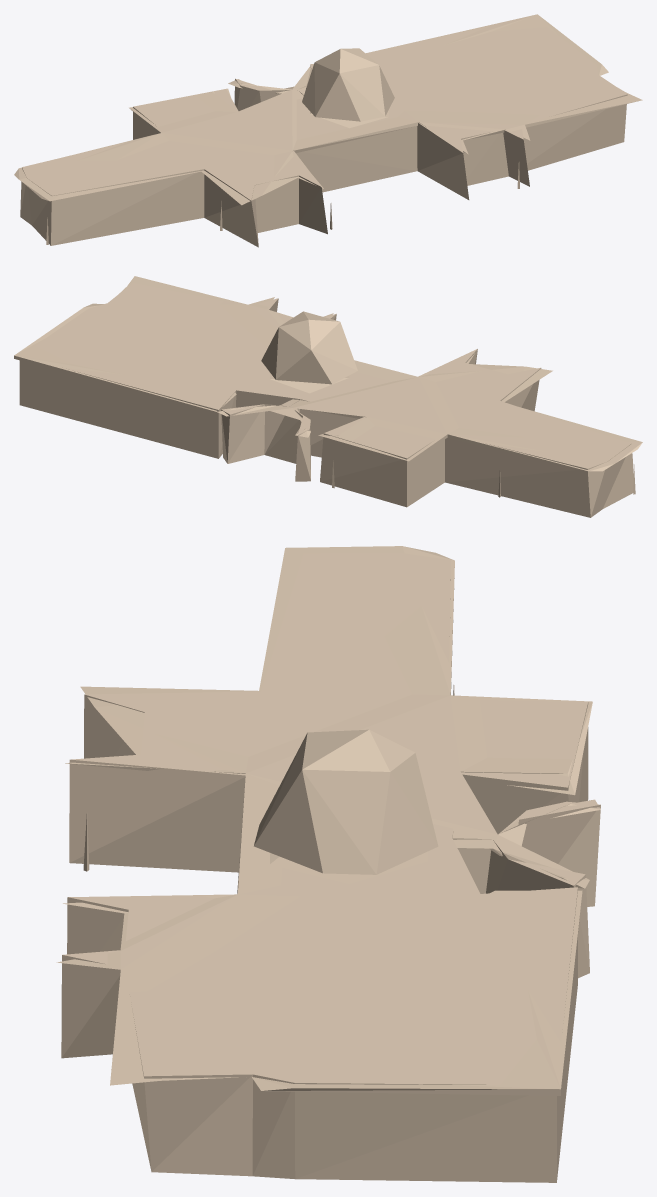
File: north-block_lod2.glb
The picture shows the model from 3 angles, top to bottom: view 1: azimuth 30°, elevation 25°; view 2: azimuth 150°, elevation 25°; view 3: azimuth 270°, elevation 25°; orthographic projection. The views are drawn at different scales.
Parts seen in each view (by area): view 1: north-block; view 2: north-block; view 3: north-block.
Part boxes in pixels (<box>): north-block: <box>14,14,642,247</box>; north-block: <box>14,276,642,517</box>; north-block: <box>56,546,600,1182</box>.
Bounding box in the file's own units: 360 × 67.35 × 152.
